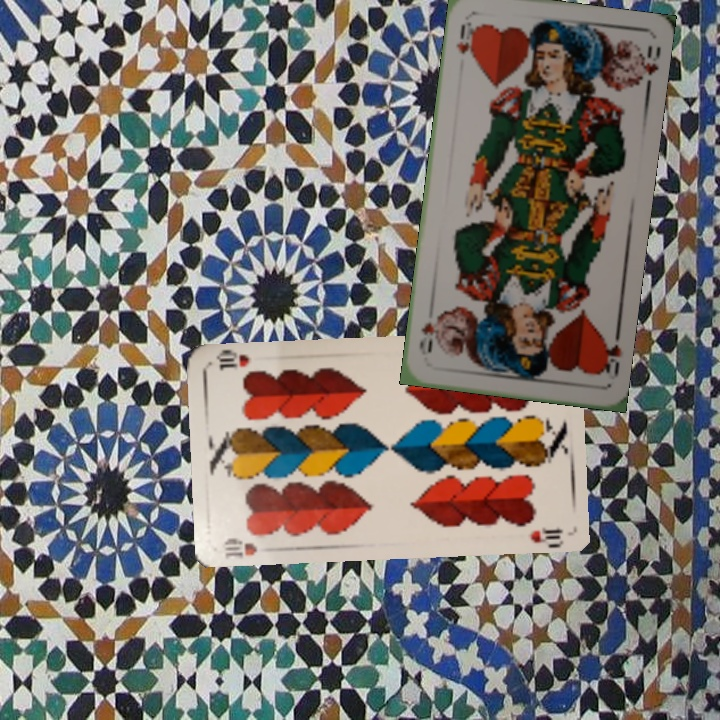H10: (219, 533, 260, 561)
HO: (595, 333, 624, 382), (452, 17, 479, 60)
